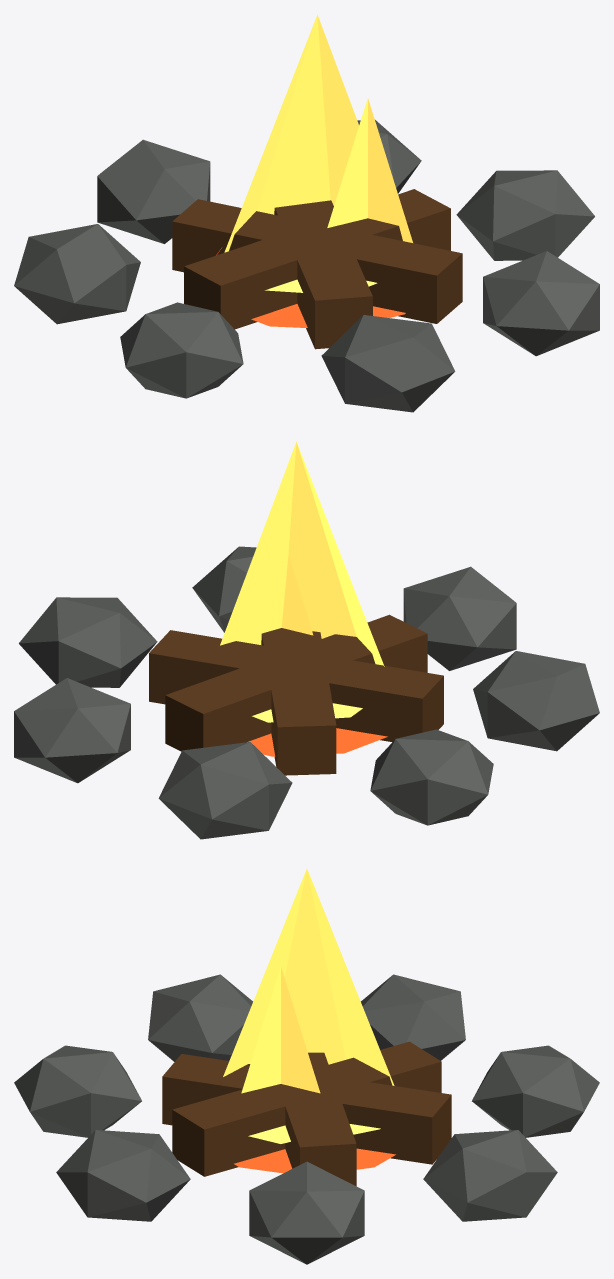
The model's file is campfire_01.glb.
The picture shows the model from 3 angles, top to bottom: view 1: azimuth 30°, elevation 25°; view 2: azimuth 150°, elevation 25°; view 3: azimuth 270°, elevation 25°; orthographic projection. The views are drawn at different scales.
Visible parts, largest first — view 1: campfire_01; view 2: campfire_01; view 3: campfire_01.
Boxes of the visible parts, x1,y1,x2,y2 form: campfire_01: (14,14,599,412); campfire_01: (14,441,599,839); campfire_01: (14,869,599,1264).
Size of the model in its own units: 1.1 by 0.5974 by 1.12.
